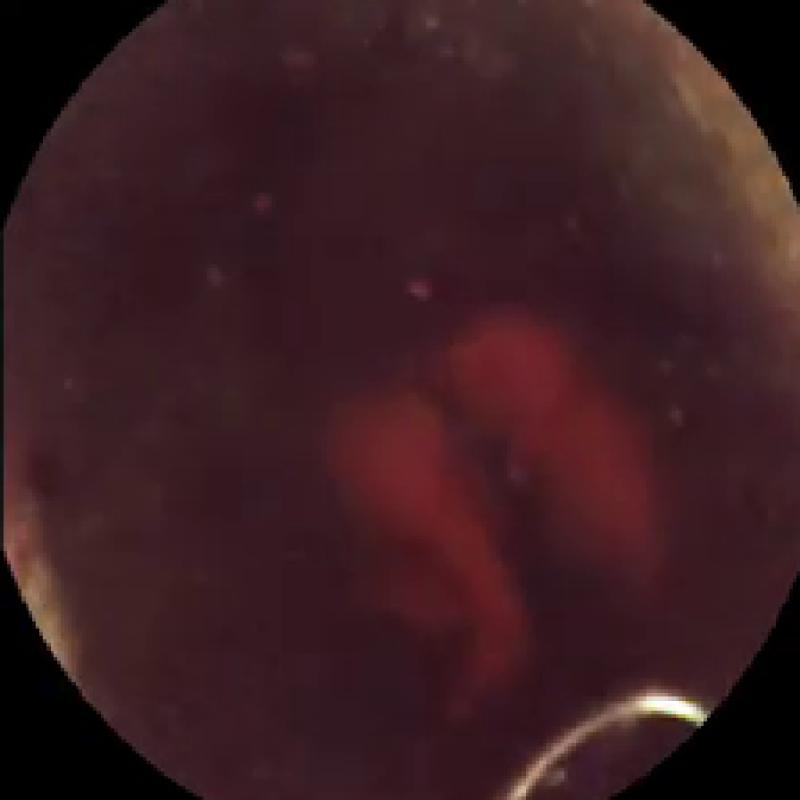bleeding: (314, 311, 672, 714)
